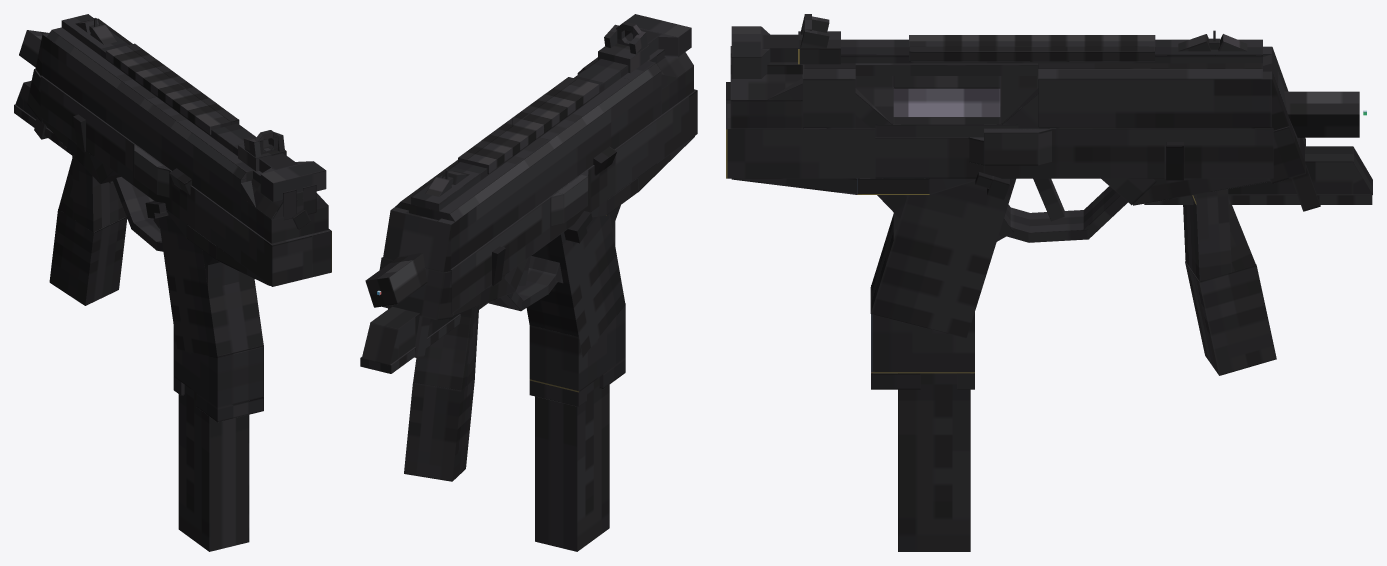
The picture shows the model from 3 angles, left to right: view 1: azimuth 30°, elevation 25°; view 2: azimuth 150°, elevation 25°; view 3: azimuth 270°, elevation 25°; orthographic projection. The views are drawn at different scales.
Visible parts, largest first — view 1: gun, magazine, tmpgrip, underrail; view 2: gun, magazine, tmpgrip, underrail; view 3: gun, magazine, tmpgrip, underrail, action.
Boxes of the visible parts, x1,y1,x2,y2 form: gun: (19, 14, 331, 422); magazine: (178, 385, 249, 551); tmpgrip: (34, 117, 127, 305); underrail: (14, 80, 113, 183); gun: (365, 14, 697, 406); magazine: (535, 377, 609, 551); tmpgrip: (388, 305, 479, 481); underrail: (360, 301, 489, 373); gun: (726, 14, 1359, 389); magazine: (898, 373, 970, 551); tmpgrip: (1183, 165, 1320, 375); underrail: (1144, 146, 1372, 204); action: (893, 87, 1000, 116).
Bounding box in the file's own units: 34.38 × 199 × 223.
